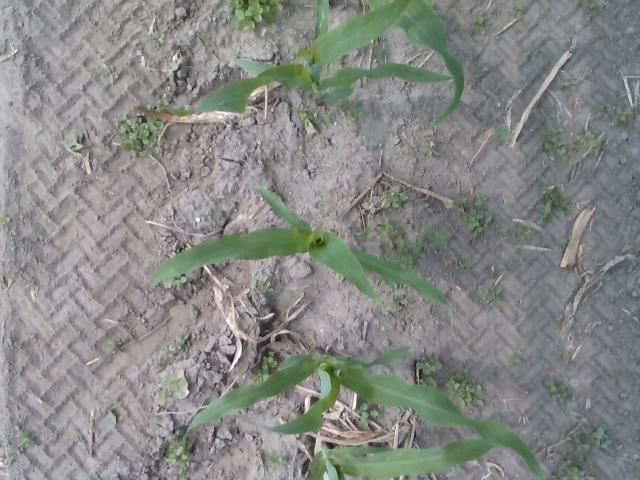Maize: (184, 344, 546, 478), (149, 188, 451, 309), (162, 0, 452, 113), (367, 0, 462, 130), (304, 440, 494, 480)
Weeds: (231, 0, 285, 33), (120, 117, 164, 150), (446, 370, 485, 406), (540, 186, 574, 220), (546, 378, 575, 403), (562, 459, 596, 480), (466, 208, 493, 232), (396, 230, 414, 264), (427, 224, 453, 247), (382, 188, 408, 208), (416, 355, 442, 373), (344, 100, 364, 121), (568, 132, 588, 152), (378, 216, 394, 240), (265, 450, 286, 468), (357, 402, 373, 425), (516, 224, 534, 244), (168, 440, 182, 464), (592, 422, 604, 449), (541, 128, 563, 142), (544, 142, 565, 156), (163, 376, 184, 390), (18, 431, 36, 447), (477, 17, 492, 35), (616, 105, 633, 120), (514, 4, 528, 22), (69, 134, 83, 152), (497, 124, 512, 140), (250, 368, 268, 381), (257, 281, 274, 294), (361, 228, 375, 243), (454, 195, 468, 210), (458, 260, 472, 274), (152, 32, 166, 46), (263, 356, 278, 369), (511, 349, 523, 365), (469, 196, 488, 206), (421, 148, 440, 158), (575, 438, 590, 450), (577, 425, 593, 436), (590, 137, 602, 151), (171, 338, 185, 350), (154, 356, 166, 370), (105, 340, 117, 354), (109, 406, 118, 424), (390, 298, 408, 307), (589, 1, 607, 10), (295, 106, 308, 118), (158, 394, 173, 404), (0, 214, 11, 226), (164, 347, 176, 358), (180, 461, 190, 474), (414, 238, 422, 254), (491, 286, 502, 297), (611, 444, 622, 455), (551, 472, 566, 480), (586, 128, 596, 140), (482, 297, 492, 308), (600, 103, 612, 112), (500, 226, 510, 236), (564, 80, 580, 86), (322, 110, 331, 120), (162, 96, 170, 106), (587, 458, 595, 468), (564, 236, 572, 246), (569, 158, 579, 166), (308, 112, 318, 120), (602, 440, 612, 448), (578, 454, 586, 463), (385, 241, 393, 250), (102, 70, 110, 78), (470, 238, 477, 246), (392, 229, 398, 236)
